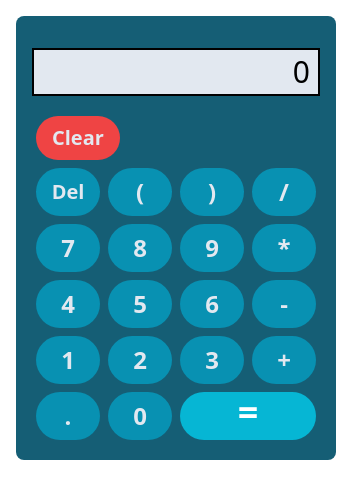
Scenario: Test de la calculadora › Realiza una suma correctamente
Click the button "8".
click(140, 248)  # box [108, 224, 172, 272]
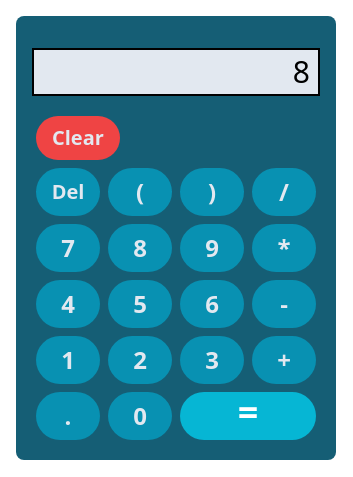
Click the button "+".
click(284, 360)  # box [252, 336, 316, 384]
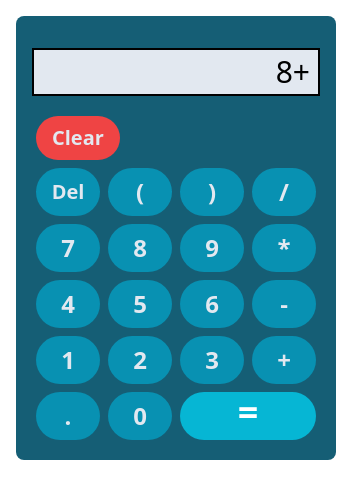
Click the button "4".
click(68, 304)  # box [36, 280, 100, 328]
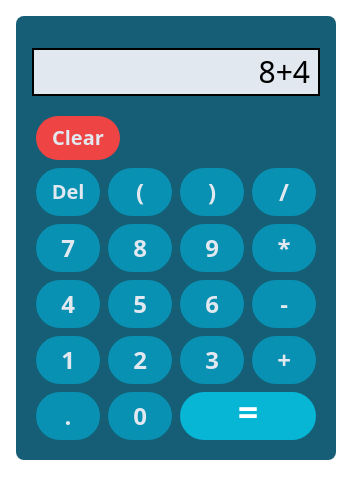
Click the button "2".
click(140, 360)  # box [108, 336, 172, 384]
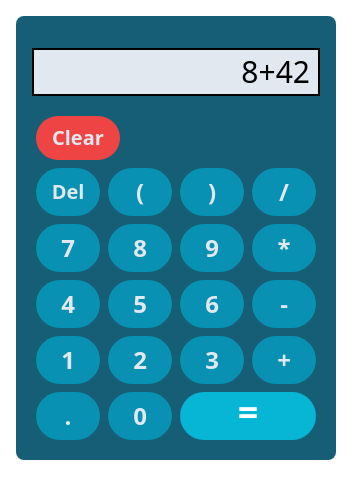
Click the button "=".
click(248, 416)  # box [180, 392, 316, 440]
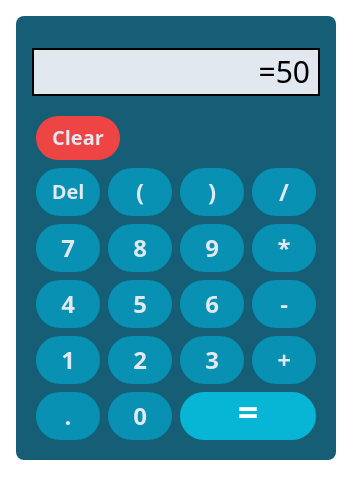
Result: the field with id "operation" holds "=50" at [32, 48, 320, 96]
